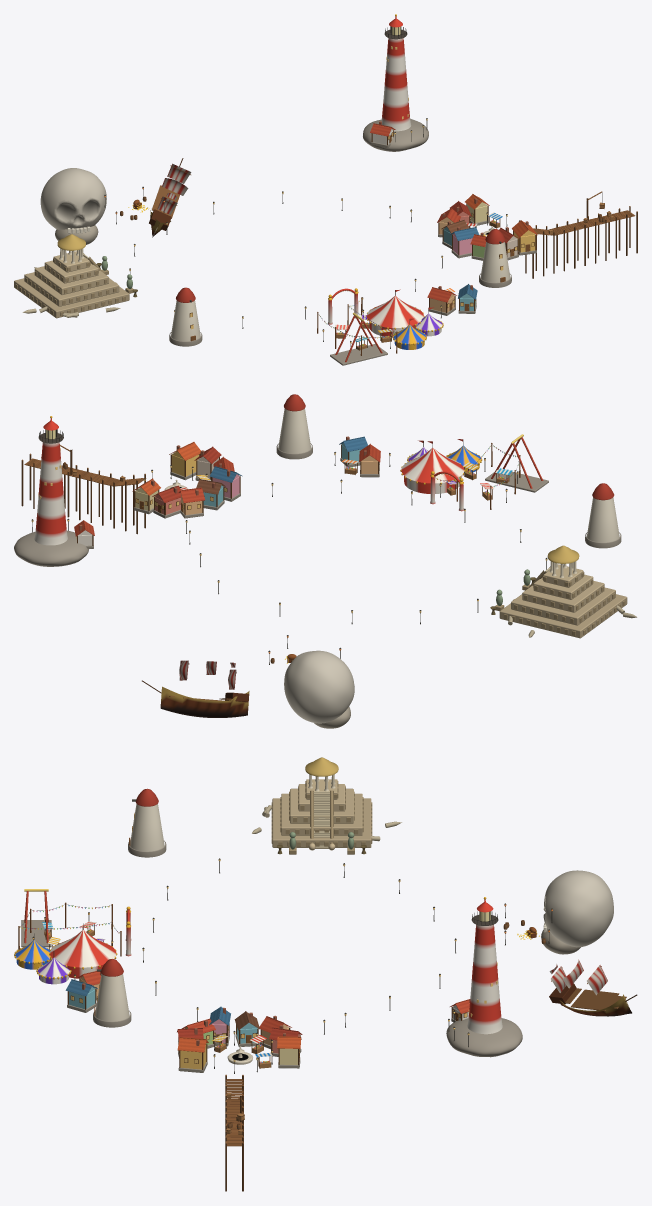
The model's file is cong_trinh.glb.
3 renders of one model, top to bottom at view 1: azimuth 30°, elevation 25°; view 2: azimuth 150°, elevation 25°; view 3: azimuth 270°, elevation 25°, orthographic. The views are drawn at different scales.
Visible parts, largest first — view 1: cang, vinh_cuop, den_thap, hoi_cho, hai_dang, coi_xay_tay, coi_xay_dong, lang_nam; view 2: cang, vinh_cuop, den_thap, hai_dang, hoi_cho, coi_xay_tay, coi_xay_dong, lang_nam; view 3: vinh_cuop, den_thap, cang, hai_dang, hoi_cho, coi_xay_tay, coi_xay_dong, lang_nam.
Part boxes in pixels (x1,y1,x2,y2): cang: [437, 191, 637, 278]; vinh_cuop: [40, 158, 191, 244]; den_thap: [14, 234, 137, 318]; hoi_cho: [317, 288, 443, 365]; hai_dang: [363, 14, 428, 151]; coi_xay_tay: [169, 287, 202, 346]; coi_xay_dong: [479, 229, 511, 287]; lang_nam: [427, 284, 477, 318]; cang: [21, 442, 242, 534]; vinh_cuop: [142, 635, 354, 728]; den_thap: [490, 545, 637, 638]; hai_dang: [14, 416, 94, 566]; hoi_cho: [400, 434, 548, 511]; coi_xay_tay: [585, 483, 621, 548]; coi_xay_dong: [276, 394, 312, 459]; lang_nam: [334, 436, 390, 477]; vinh_cuop: [503, 870, 637, 1016]; den_thap: [252, 757, 401, 854]; cang: [177, 1006, 302, 1191]; hai_dang: [446, 897, 522, 1057]; hoi_cho: [14, 889, 131, 984]; coi_xay_tay: [128, 788, 166, 857]; coi_xay_dong: [93, 959, 131, 1027]; lang_nam: [65, 971, 101, 1012].
Size of the model in its own units: 135 by 43.22 by 107.
